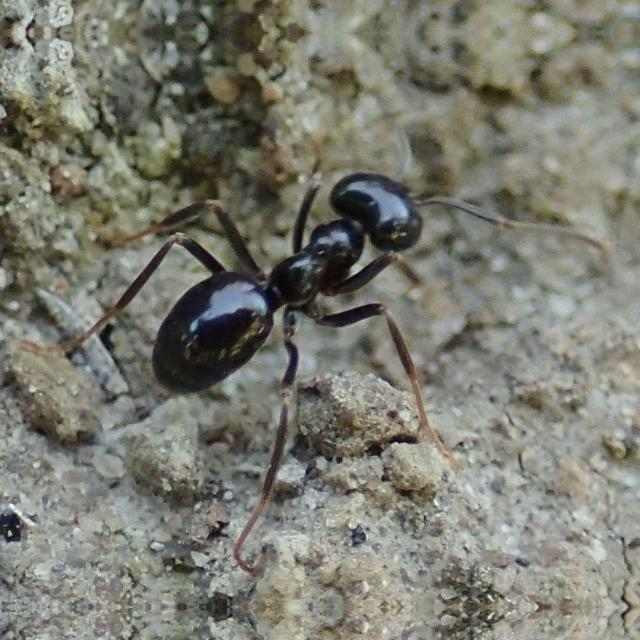Lasius: (90, 111, 516, 385)
